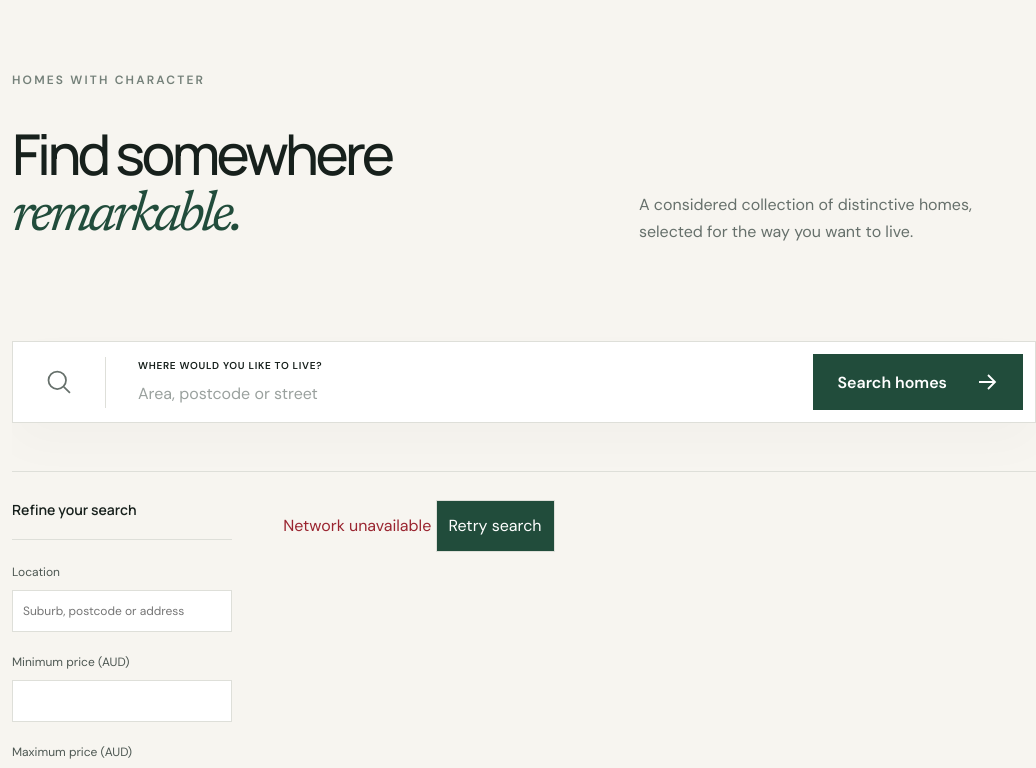
Test: shows a retryable failure followed by an empty result
Expected: the message shows "Network unavailable", [283,516,431,536]
What coordinates should you click on to do the following:
click the button "Retry search"
I would click on:
 (495, 526)
Its box is [436,500,554,552].
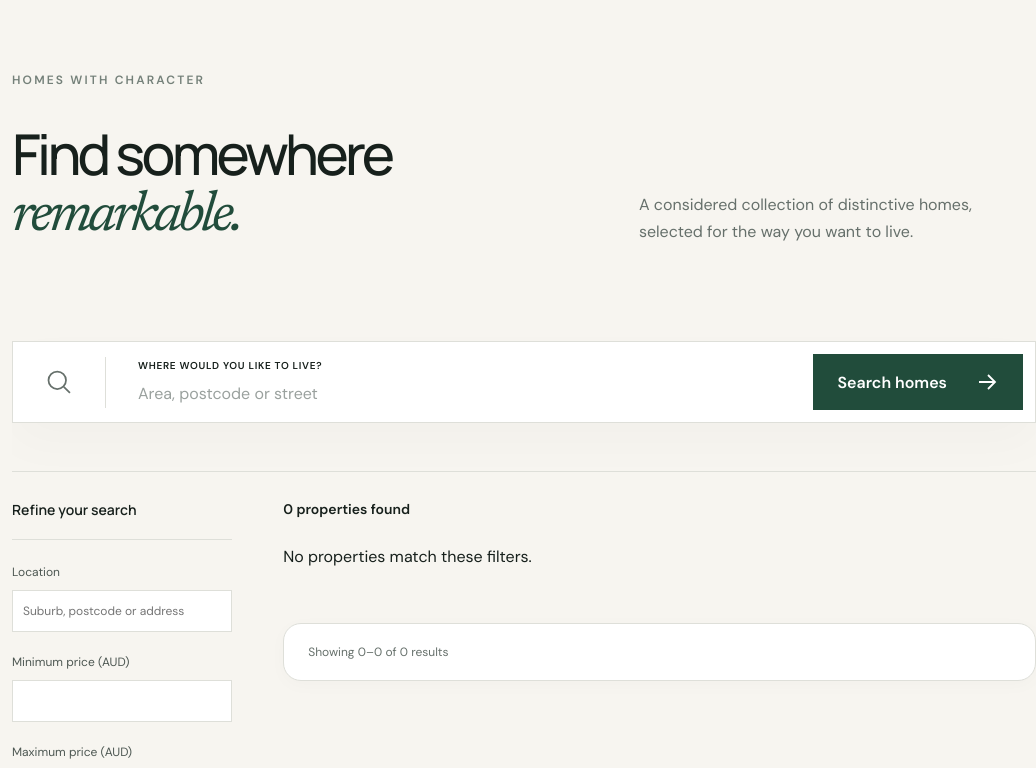
Expected: the text "No properties match these filters." is shown, [283,546,532,568]
